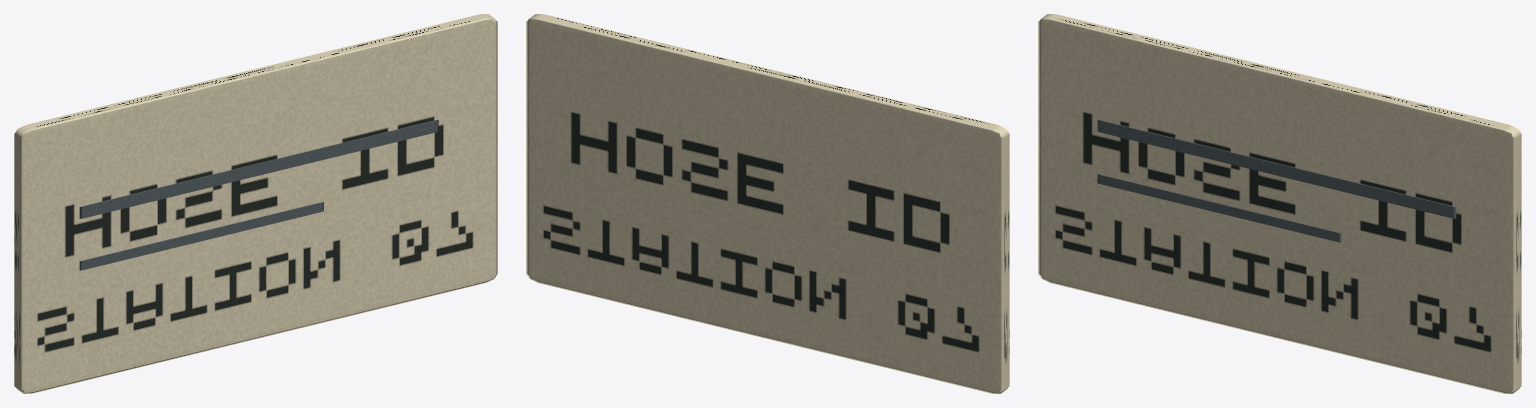
The model's file is hose-id.glb.
3 renders of one model, left to right at view 1: azimuth 30°, elevation 25°; view 2: azimuth 150°, elevation 25°; view 3: azimuth 330°, elevation 25°, orthographic.
Parts seen in each view (by area): view 1: board, stripe, line; view 2: board; view 3: board, stripe, line.
Part boxes in pixels (x1,y1,x2,y2): board: (14,14,497,393); stripe: (79,120,438,218); line: (79,202,323,270); board: (526,14,1009,393); board: (1038,14,1521,393); stripe: (1097,120,1456,218); line: (1097,174,1341,242).
Size of the model in its own units: 0.085 by 0.045 by 0.00204.
Materials: 2 (2 with a texture image).
